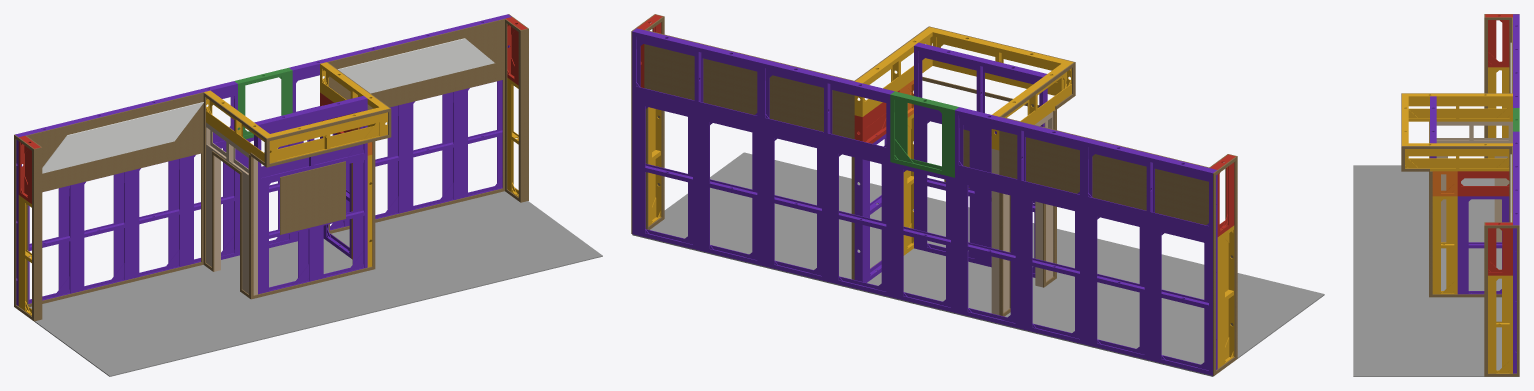
The picture shows the model from 3 angles, left to right: view 1: azimuth 30°, elevation 25°; view 2: azimuth 150°, elevation 25°; view 3: azimuth 270°, elevation 25°; orthographic projection. The views are drawn at different scales.
Parts seen in each view (by area): view 1: Пол, ДСП 3260 × 1000 × 16 мм (×2), Body17 (×8), Body18 (×9), ЛДСП 16 мм, левая, ЛДСП 16 мм, правая, ДСП под ТВ 1200 × 1000 × 16 мм, Body23 (×5), ДСП 3000 × 50 × 16 мм (×4), ДСП 3160 × 50 × 16 мм (×3), ДСП под СВД 3000 × 152 × 16 мм, левый торец, Body22 (×2) (+6 smaller); view 2: Пол, Body18 (×17), ДСП 3260 × 1000 × 16 мм (×2), Body17 (×9), Body23 (×7), Body22 (×7), Лицевая панель 2 (×2), ДСП 3000 × 50 × 16 мм (×2), Задний торец, Body16, Body19, Body13 (+2 smaller); view 3: Пол, Body22 (×5), Body23 (×5), Body16 (×6), ДСП 3000 × 50 × 16 мм (×5), Body2 (×4), Body1 (×3), Body14 (×4), Body17, Body11 (×3), Лицевая панель 1 (×2), Body12 (×2) (+9 smaller).
Part boxes in pixels (x1=…): Пол: x1=30, y1=191, x2=602, y2=376; ДСП 3260 × 1000 × 16 мм (×2): x1=25, y1=18, x2=505, y2=189; Body17 (×8): x1=73, y1=88, x2=467, y2=293; Body18 (×9): x1=58, y1=81, x2=502, y2=289; ЛДСП 16 мм, левая: x1=42, y1=102, x2=203, y2=173; ЛДСП 16 мм, правая: x1=338, y1=38, x2=494, y2=93; ДСП под ТВ 1200 × 1000 × 16 мм: x1=280, y1=161, x2=345, y2=234; Body23 (×5): x1=18, y1=81, x2=512, y2=310; ДСП 3000 × 50 × 16 мм (×4): x1=14, y1=19, x2=520, y2=307; ДСП 3160 × 50 × 16 мм (×3): x1=28, y1=150, x2=502, y2=306; ДСП под СВД 3000 × 152 × 16 мм, левый торец: x1=33, y1=147, x2=42, y2=321; Body22 (×2): x1=206, y1=110, x2=373, y2=161; Пол: x1=632, y1=152, x2=1324, y2=376; Body18 (×17): x1=632, y1=29, x2=1213, y2=359; ДСП 3260 × 1000 × 16 мм (×2): x1=644, y1=30, x2=1209, y2=224; Body17 (×9): x1=636, y1=86, x2=1217, y2=368; Body23 (×7): x1=636, y1=30, x2=1224, y2=367; Body22 (×7): x1=757, y1=58, x2=1148, y2=355; Лицевая панель 2 (×2): x1=998, y1=193, x2=1053, y2=314; ДСП 3000 × 50 × 16 мм (×2): x1=1213, y1=156, x2=1236, y2=375; Задний торец: x1=992, y1=191, x2=998, y2=314; Body16: x1=855, y1=157, x2=861, y2=281; Body19: x1=942, y1=111, x2=954, y2=173; Body13: x1=1228, y1=231, x2=1233, y2=357; Пол: x1=1353, y1=165, x2=1519, y2=376; Body22 (×5): x1=1408, y1=70, x2=1506, y2=373; Body23 (×5): x1=1405, y1=71, x2=1509, y2=367; Body16 (×6): x1=1430, y1=14, x2=1518, y2=373; ДСП 3000 × 50 × 16 мм (×5): x1=1485, y1=17, x2=1519, y2=376; Body2 (×4): x1=1432, y1=17, x2=1512, y2=275; Body1 (×3): x1=1457, y1=14, x2=1509, y2=266; Body14 (×4): x1=1402, y1=94, x2=1512, y2=173; Body17: x1=1457, y1=199, x2=1468, y2=293; Body11 (×3): x1=1454, y1=196, x2=1512, y2=373; Лицевая панель 1 (×2): x1=1436, y1=156, x2=1509, y2=242; Body12 (×2): x1=1405, y1=118, x2=1509, y2=171.
Size of the model in its own units: 9.03 by 3.02 by 3.
Materials: 9 (1 with a texture image).
